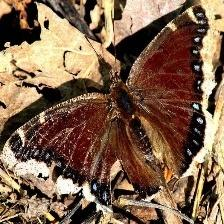butterfly: (1, 6, 209, 206)
